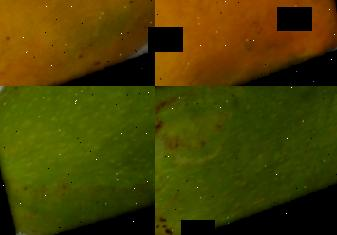PartiallyRipe: (0, 0, 155, 86)
Ripe: (155, 0, 337, 86)
Unripe: (155, 86, 337, 235), (0, 86, 155, 235)
